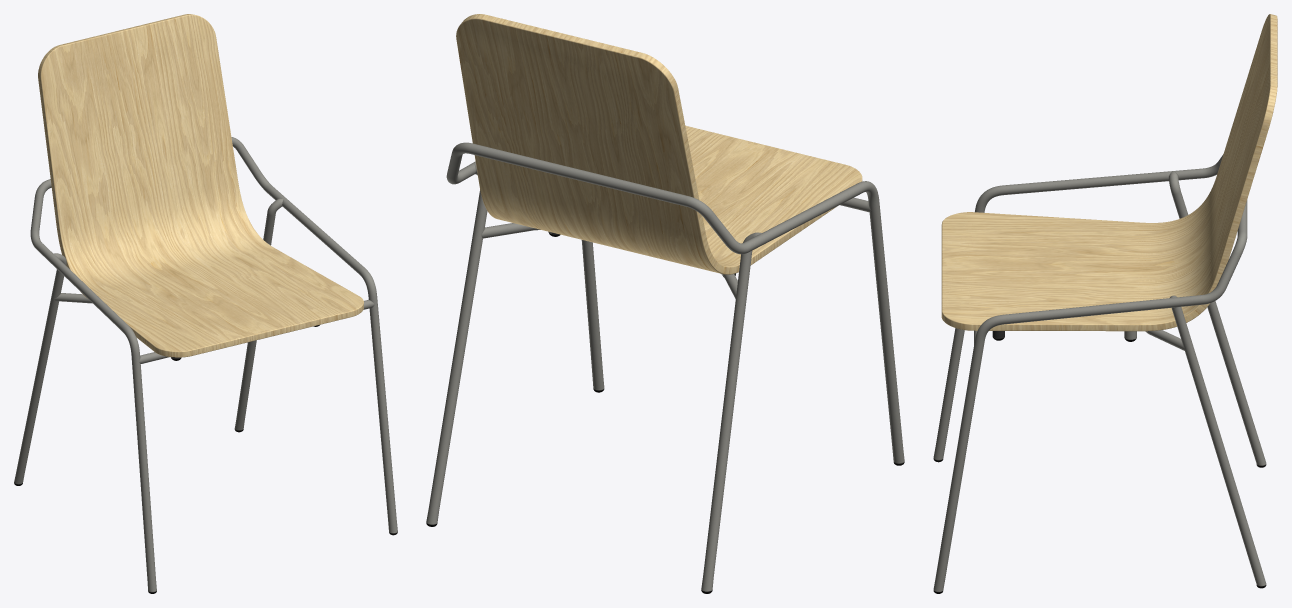
The picture shows the model from 3 angles, left to right: view 1: azimuth 30°, elevation 25°; view 2: azimuth 150°, elevation 25°; view 3: azimuth 270°, elevation 25°; orthographic projection. The views are drawn at different scales.
Visible parts, largest first — view 1: Chair_1; view 2: Chair_1; view 3: Chair_1.
Part boxes in pixels (box(x1,y1,x2,y2)): Chair_1: box(14, 14, 397, 593); Chair_1: box(426, 14, 904, 593); Chair_1: box(933, 14, 1277, 593).
Bounding box in the file's own units: 0.5129 × 0.8371 × 0.5481.
Materials: 1 (1 with a texture image).
